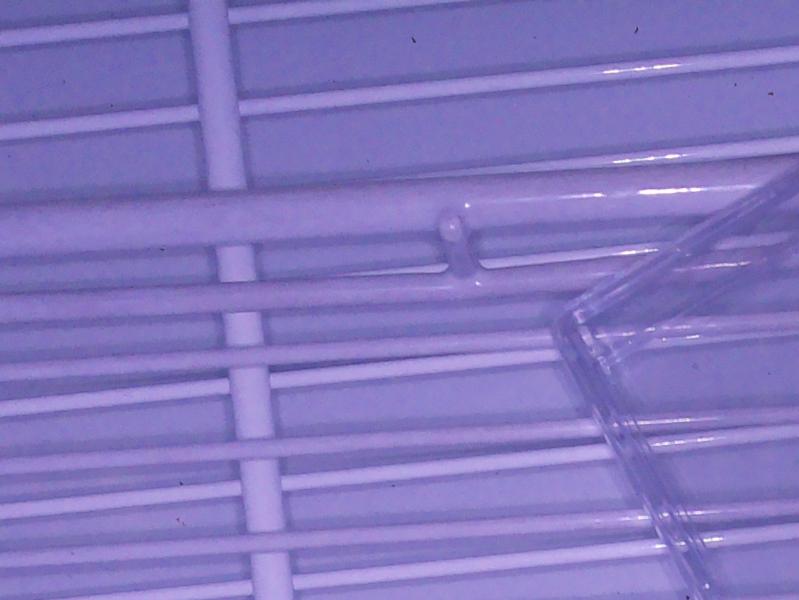plate: (550, 165, 799, 600)
